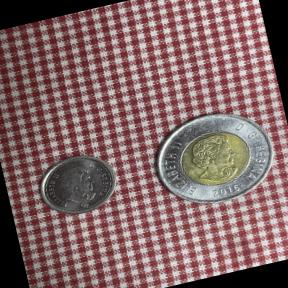Canada-10cent-B: (28, 142, 126, 225)
Canada-2Dollar-B: (135, 94, 287, 222)
